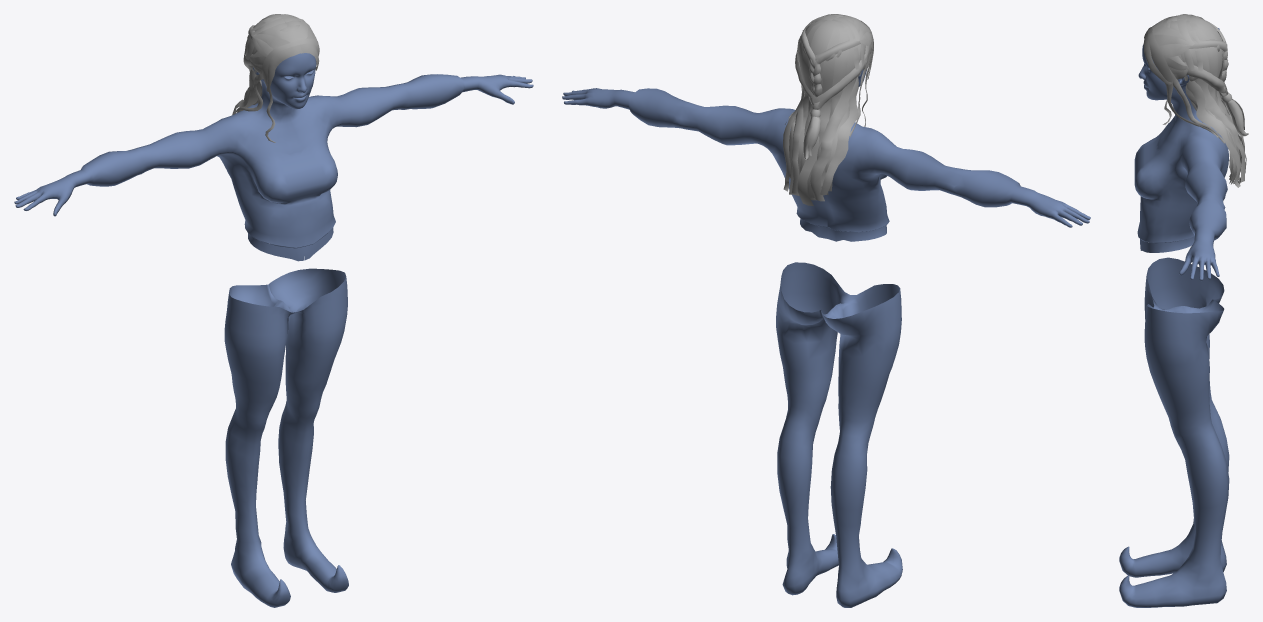
File: player_char_zenobia_01.fbx
3 views of the same model, side by side, from view 1: azimuth 30°, elevation 25°; view 2: azimuth 150°, elevation 25°; view 3: azimuth 270°, elevation 25° (orthographic).
Visible parts, largest first — view 1: Zenobia1:Zenobia1:body, Zenobia1:Hair; view 2: Zenobia1:Zenobia1:body, Zenobia1:Hair; view 3: Zenobia1:Zenobia1:body, Zenobia1:Hair.
Part boxes in pixels (x1=…): Zenobia1:Zenobia1:body: x1=14, y1=53, x2=533, y2=607; Zenobia1:Hair: x1=232, y1=14, x2=319, y2=142; Zenobia1:Zenobia1:body: x1=562, y1=69, x2=1090, y2=607; Zenobia1:Hair: x1=783, y1=14, x2=873, y2=205; Zenobia1:Zenobia1:body: x1=1119, y1=28, x2=1229, y2=607; Zenobia1:Hair: x1=1143, y1=14, x2=1248, y2=187.
Bounding box in the file's own units: 163 × 170 × 34.89.
